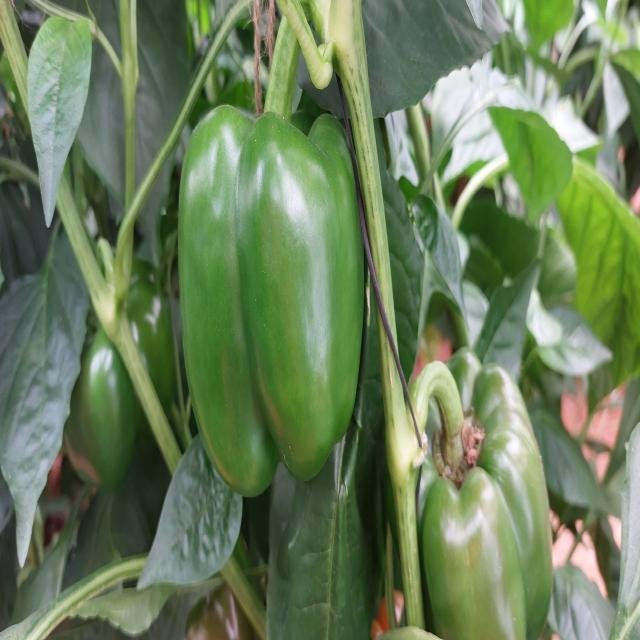Green--Not-ready-to-harvest: (179, 114, 365, 513), (418, 350, 555, 640), (61, 256, 174, 494)
